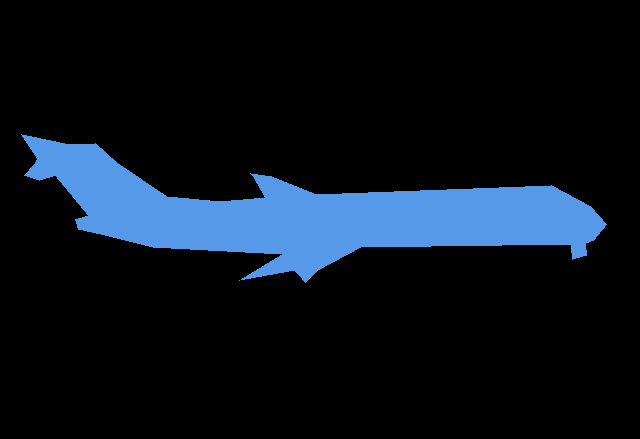Airplane: (21, 134, 606, 282)
